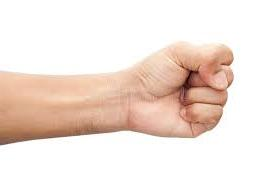Left-Fist: (71, 38, 239, 139)
